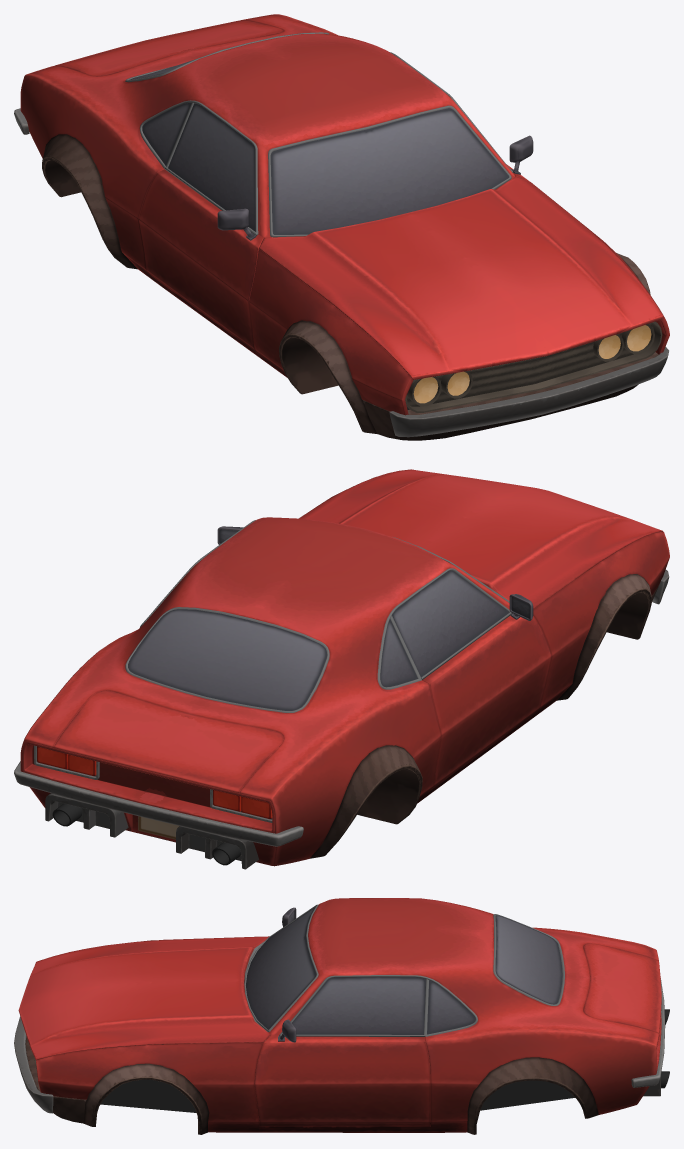
File: car1.fbx
3 views of the same model, one above another, from view 1: azimuth 30°, elevation 25°; view 2: azimuth 150°, elevation 25°; view 3: azimuth 270°, elevation 25° (orthographic). The views are drawn at different scales.
Visible parts, largest first — view 1: Plane.060, Plane.058; view 2: Plane.060, Plane.058; view 3: Plane.060, Plane.058.
Part boxes in pixels (bbox=[...]): Plane.060: bbox=[14, 14, 669, 440]; Plane.058: bbox=[259, 176, 662, 379]; Plane.060: bbox=[14, 477, 669, 869]; Plane.058: bbox=[299, 469, 662, 608]; Plane.060: bbox=[14, 898, 669, 1134]; Plane.058: bbox=[18, 936, 270, 1060].
Bounding box in the file's own units: 232 × 129 × 494.
Materials: 2 (2 with a texture image).
